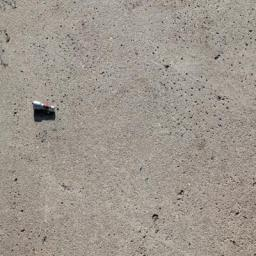FOD: (33, 98, 59, 124)
